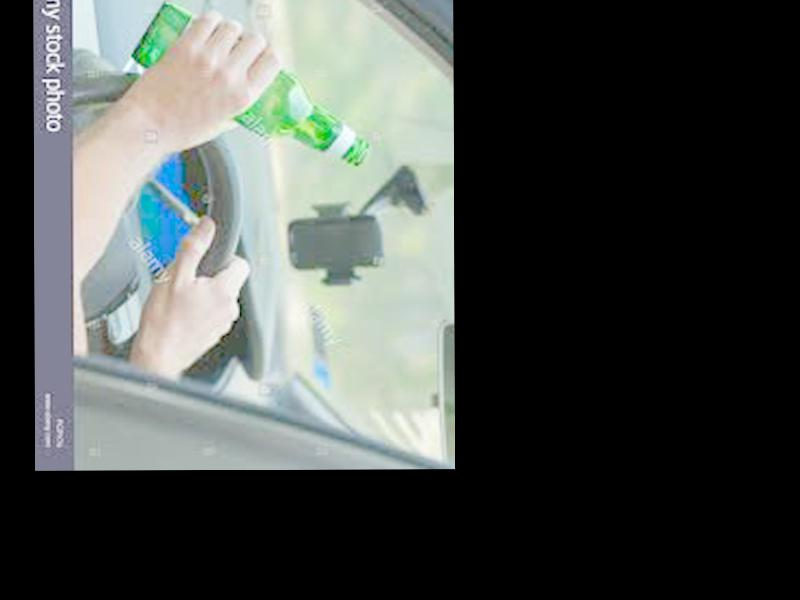Beer: (128, 6, 366, 165)
